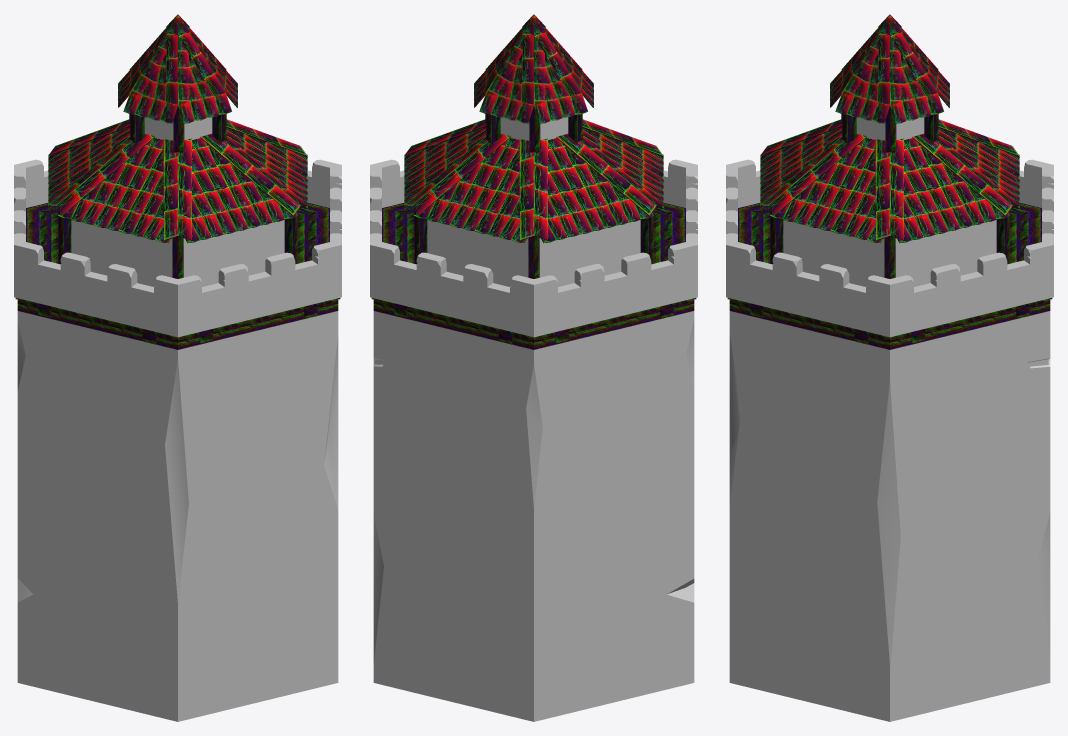
File: SM_20x20TowerHexagon_Small_Top.fbx
The picture shows the model from 3 angles, left to right: view 1: azimuth 30°, elevation 25°; view 2: azimuth 150°, elevation 25°; view 3: azimuth 270°, elevation 25°; orthographic projection.
Parts seen in each view (by area): view 1: SM_20x20TowerHexagon_Small_Top_LOD0; view 2: SM_20x20TowerHexagon_Small_Top_LOD0; view 3: SM_20x20TowerHexagon_Small_Top_LOD0.
Boxes of the visible parts, x1,y1,x2,y2 form: SM_20x20TowerHexagon_Small_Top_LOD0: (14, 14, 341, 721); SM_20x20TowerHexagon_Small_Top_LOD0: (370, 14, 697, 721); SM_20x20TowerHexagon_Small_Top_LOD0: (726, 14, 1053, 721).
Bounding box in the file's own units: 2043 × 1769 × 3749.
Materials: 3 (2 with a texture image).
